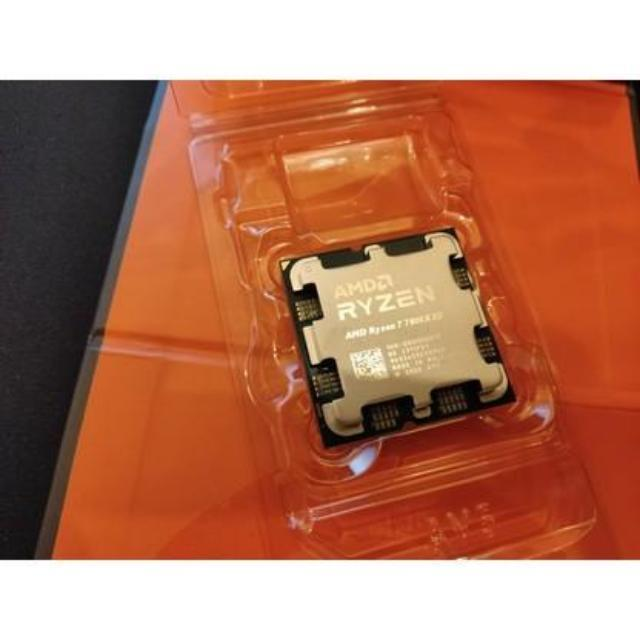CPU: (281, 229, 510, 434)
